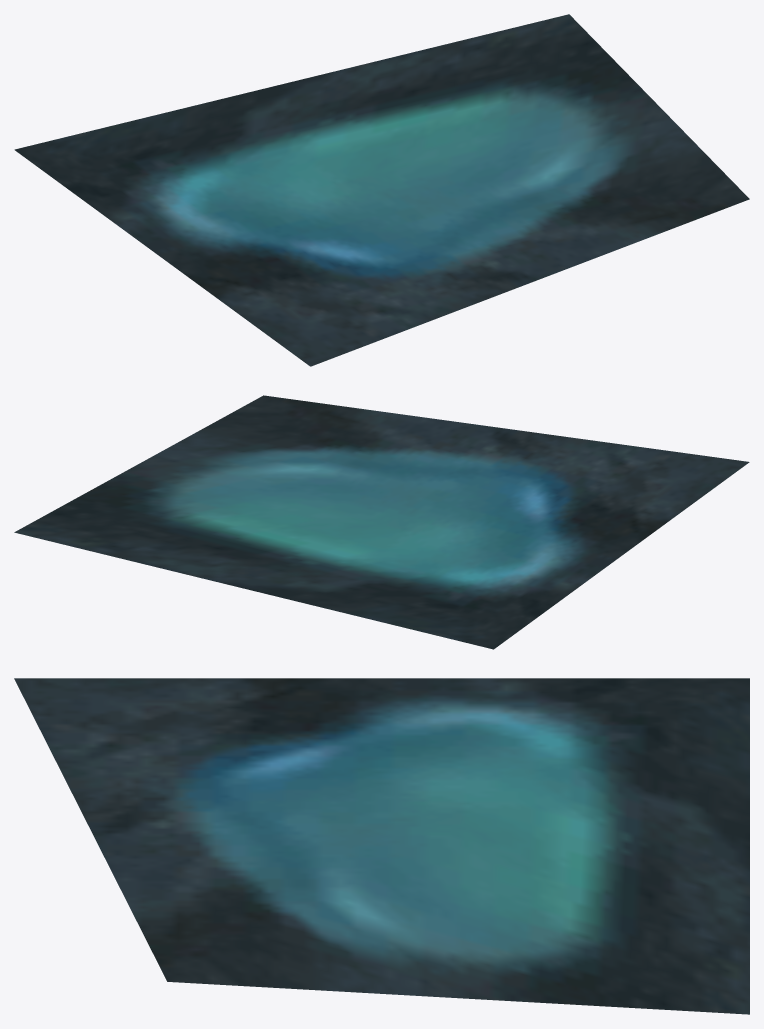
The model's file is stemple_puddle_04.fbx.
The picture shows the model from 3 angles, top to bottom: view 1: azimuth 30°, elevation 25°; view 2: azimuth 150°, elevation 25°; view 3: azimuth 270°, elevation 25°; orthographic projection. The views are drawn at different scales.
Parts seen in each view (by area): view 1: sunken_tileset/sunken_decal02_mat; view 2: sunken_tileset/sunken_decal02_mat; view 3: sunken_tileset/sunken_decal02_mat.
Part boxes in pixels (bbox=[...]): sunken_tileset/sunken_decal02_mat: bbox=[14, 14, 749, 366]; sunken_tileset/sunken_decal02_mat: bbox=[14, 395, 749, 649]; sunken_tileset/sunken_decal02_mat: bbox=[14, 678, 749, 1014].
Size of the model in its own units: 1.31 by 0 by 1.21.
